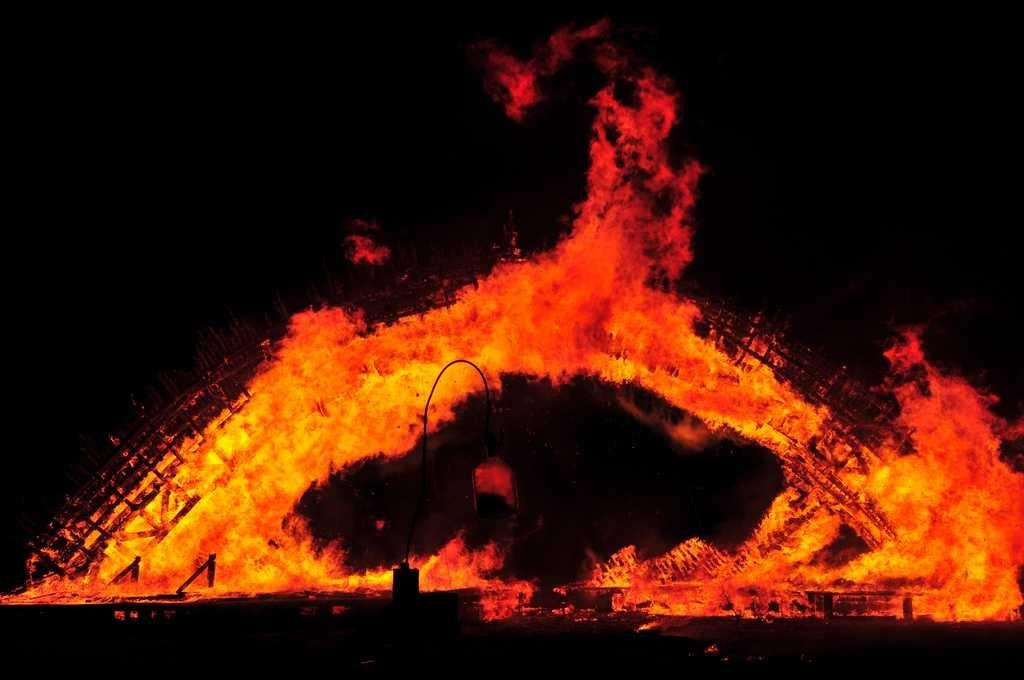fire: (893, 437, 1008, 612), (132, 485, 298, 585), (462, 297, 682, 367), (317, 325, 443, 415)
